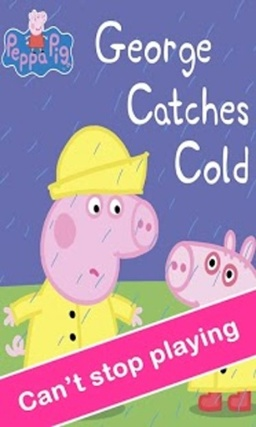Peppa: (2, 122, 158, 417)
